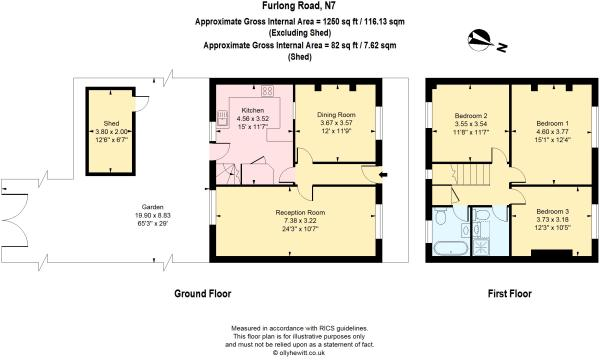GardenMeasurements: (133, 202, 174, 229)
GrossArea: (192, 15, 407, 27)
